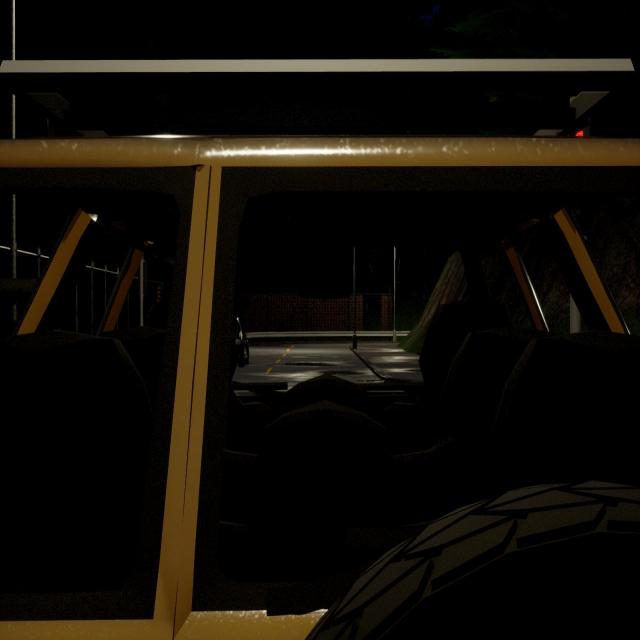Vehicle: (0, 60, 640, 640), (228, 314, 251, 369)
traffic_light: (573, 103, 593, 144)
